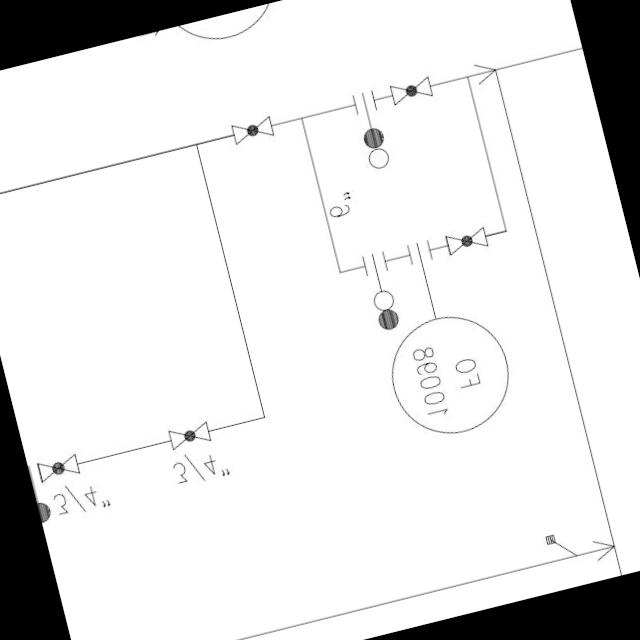BV2: (28, 446, 88, 488), (380, 69, 438, 109), (161, 414, 216, 456), (438, 220, 492, 262), (223, 110, 280, 148)
